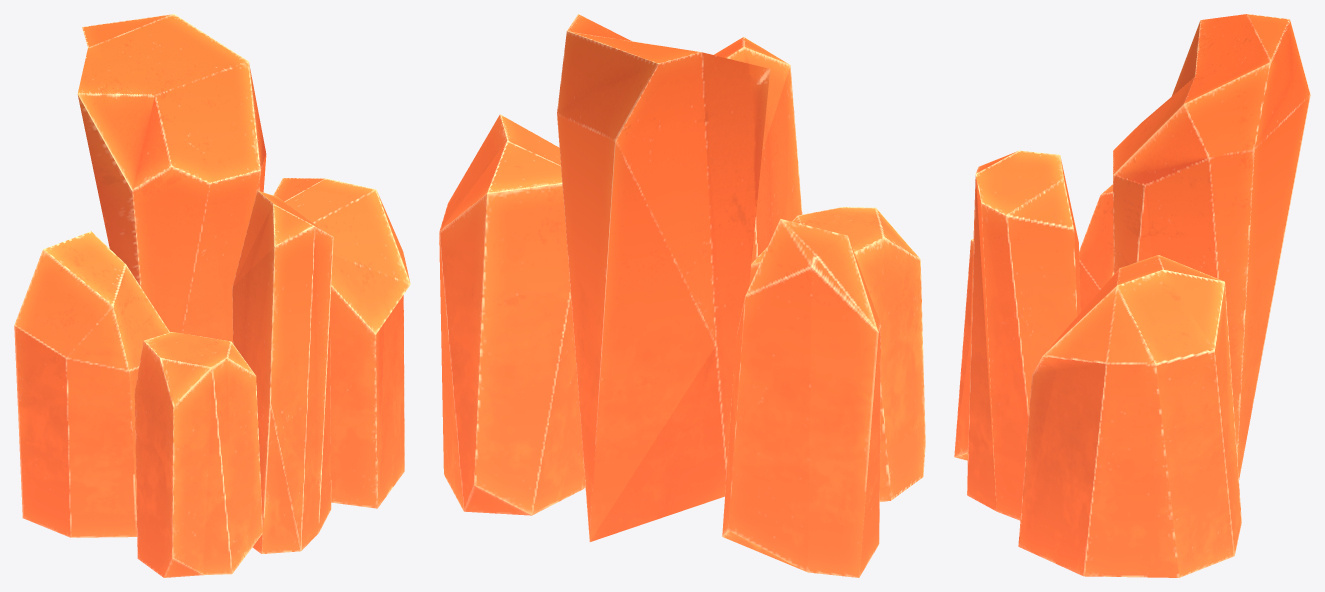
3 renders of one model, left to right at view 1: azimuth 30°, elevation 25°; view 2: azimuth 150°, elevation 25°; view 3: azimuth 270°, elevation 25°, orthographic. The views are drawn at different scales.
Visible parts, largest first — view 1: 5; view 2: 5; view 3: 5.
Boxes of the visible parts, left/top/right/bottom form: 5: left=14, top=14, right=410, bottom=577; 5: left=439, top=14, right=925, bottom=577; 5: left=954, top=14, right=1310, bottom=577.
Size of the model in its own units: 447 by 509 by 370.
